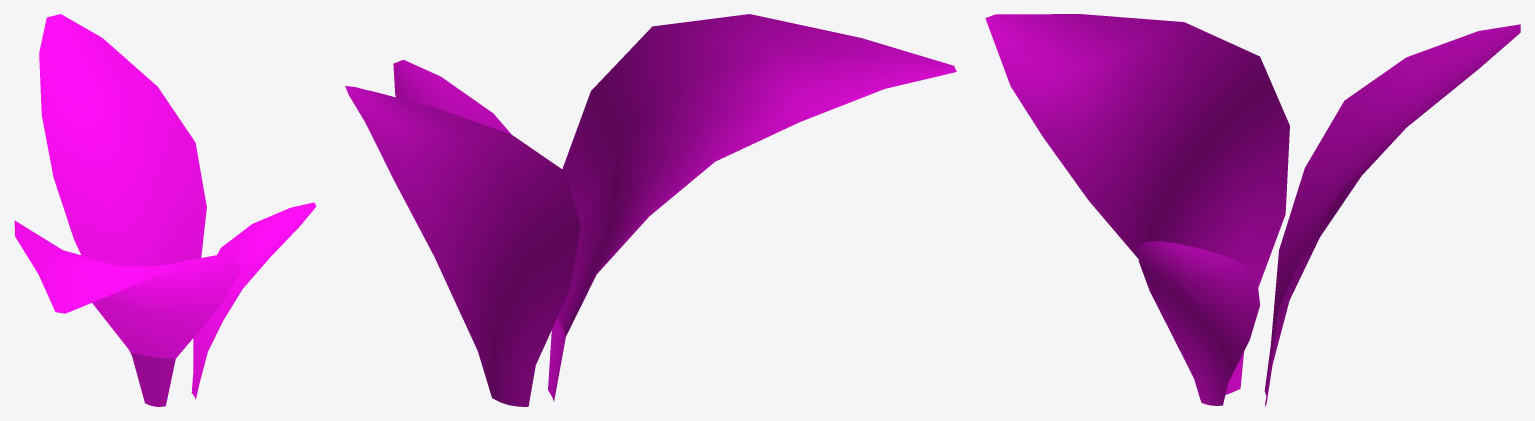
Rendered from Palmier_pousse.fbx.
3 renders of one model, left to right at view 1: azimuth 30°, elevation 25°; view 2: azimuth 150°, elevation 25°; view 3: azimuth 270°, elevation 25°, orthographic. The views are drawn at different scales.
Visible parts, largest first — view 1: Plane182; view 2: Plane182; view 3: Plane182.
Boxes of the visible parts, left/top/right/bottom form: Plane182: left=14, top=14, right=316, bottom=406; Plane182: left=345, top=14, right=956, bottom=406; Plane182: left=985, top=14, right=1520, bottom=406.
Bounding box in the file's own units: 20.83 × 18.19 × 23.54.
